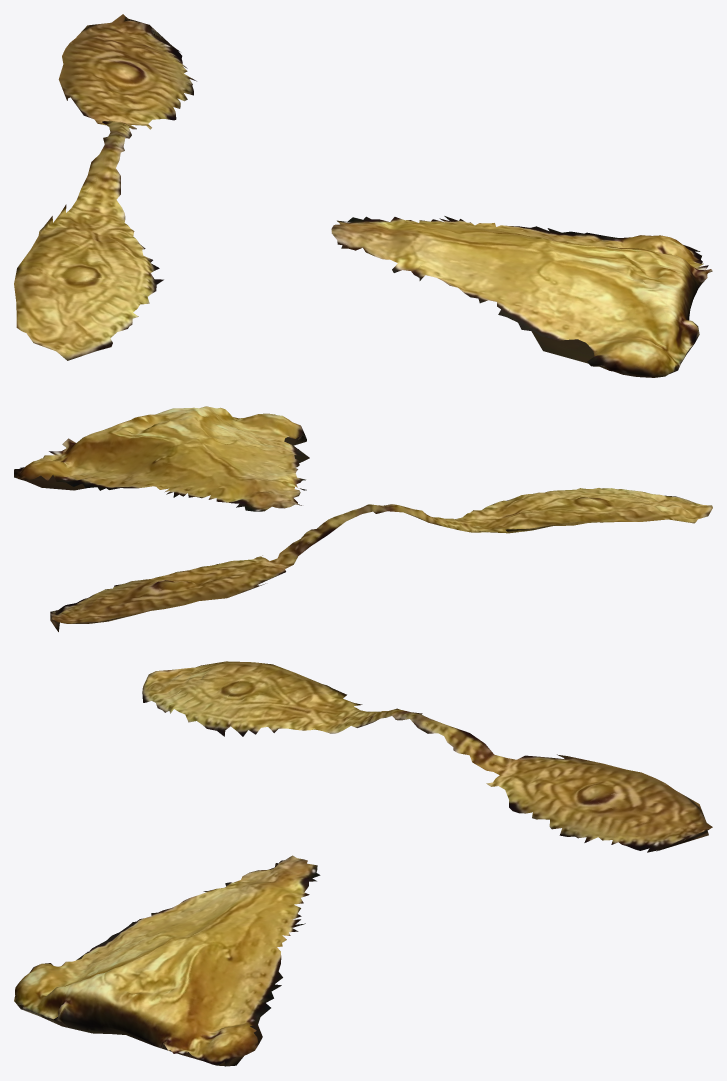
Rendered from Oton Golden Deatch Mask.glb.
The picture shows the model from 3 angles, top to bottom: view 1: azimuth 30°, elevation 25°; view 2: azimuth 150°, elevation 25°; view 3: azimuth 270°, elevation 25°; orthographic projection. The views are drawn at different scales.
Visible parts, largest first — view 1: 170115713490-OSC; view 2: 170115713490-OSC; view 3: 170115713490-OSC.
Part boxes in pixels (x1,y1,x2,y2): 170115713490-OSC: (14,14,712,377); 170115713490-OSC: (14,406,712,631); 170115713490-OSC: (14,661,712,1066).
Bounding box in the file's own units: 3.3 × 0.7857 × 3.17.
1 material, 1 textured.
